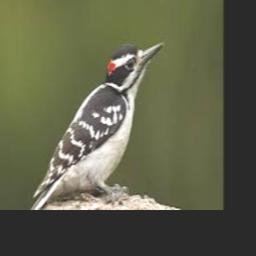Woodpecker: (30, 41, 164, 210)
